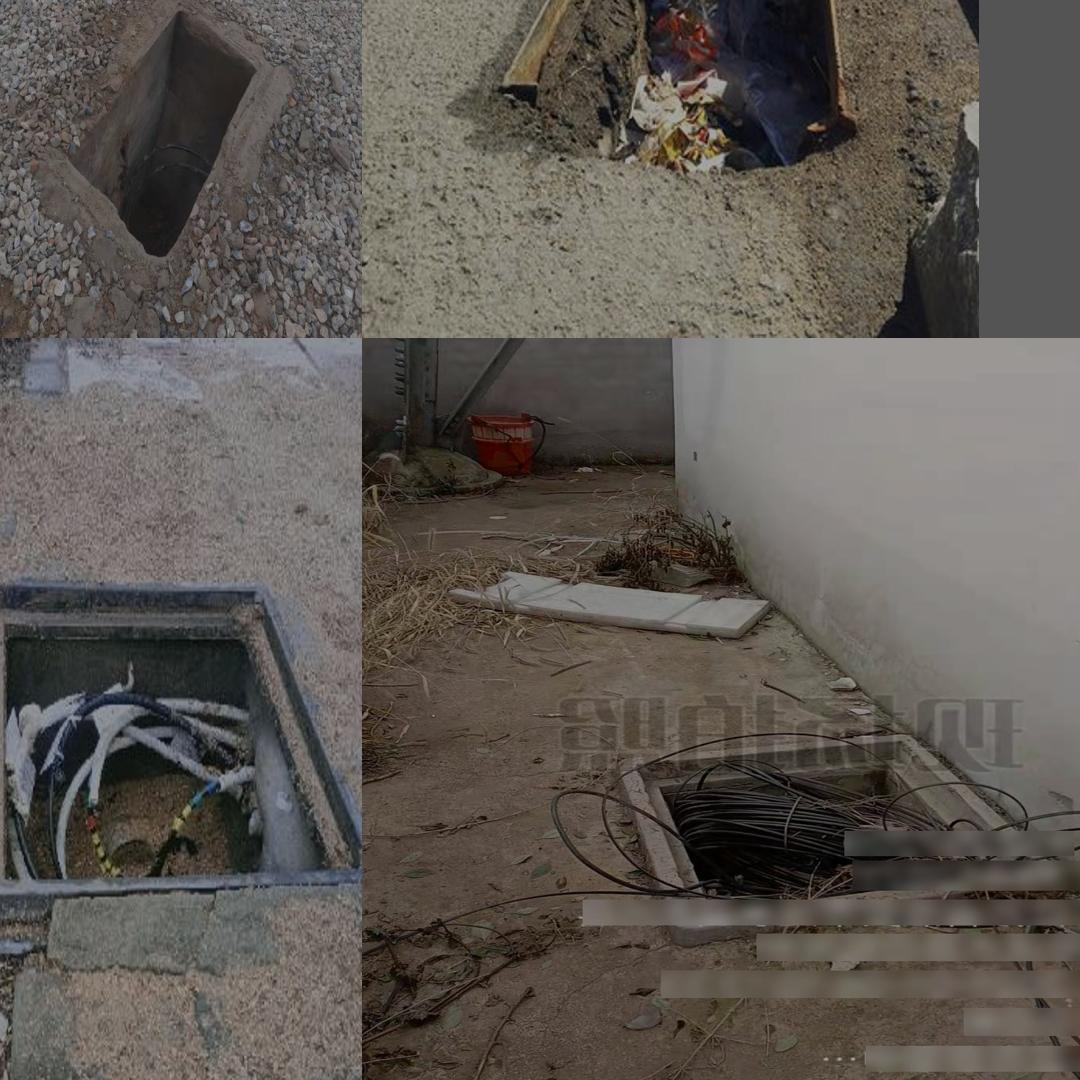lose: (0, 575, 357, 914), (616, 734, 1068, 949), (493, 0, 891, 171), (66, 7, 261, 260)
